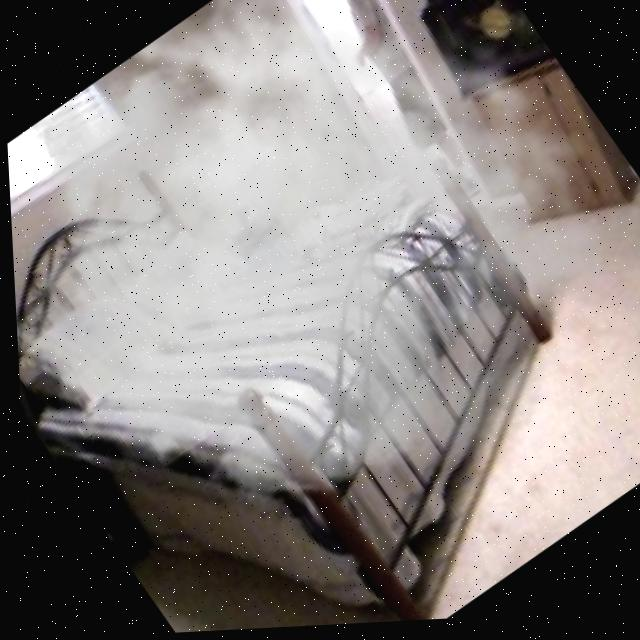Smoke: (6, 0, 640, 633)
